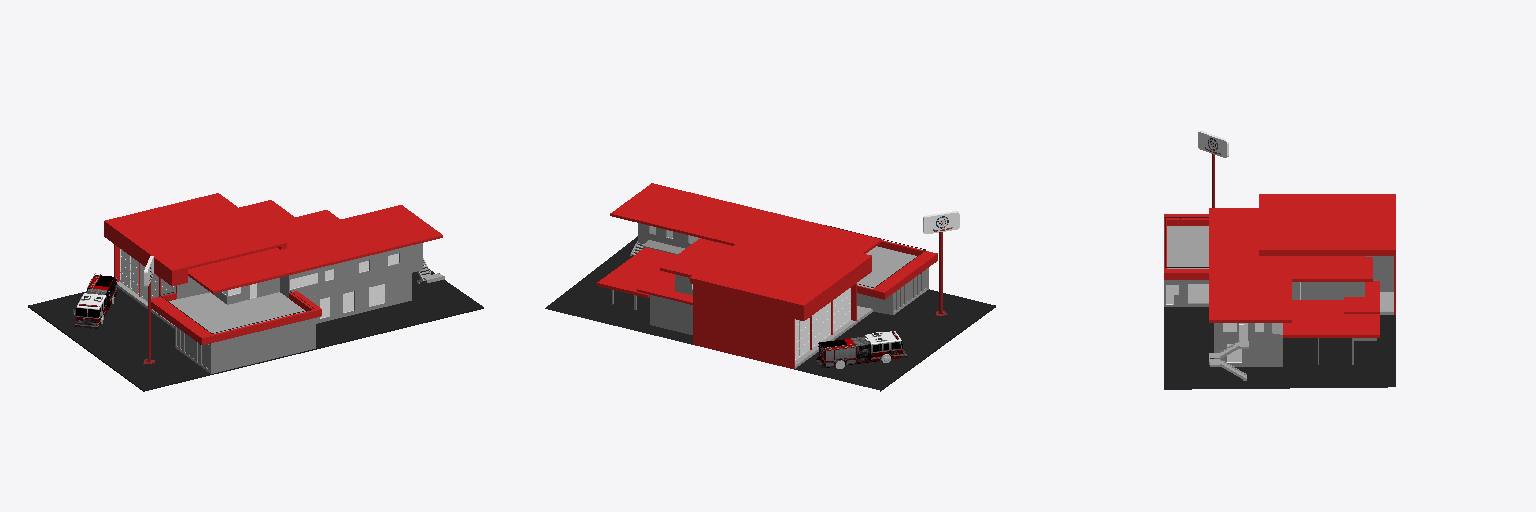
3 renders of one model, left to right at view 1: azimuth 30°, elevation 25°; view 2: azimuth 150°, elevation 25°; view 3: azimuth 270°, elevation 25°, orthographic.
Parts seen in each view (by area): view 1: obj49, obj9, obj10, obj1, obj41, obj11, obj4, obj7, obj4.001, obj27, obj12, obj5 (+2 smaller); view 2: obj49, obj9, obj16, obj10, obj11, obj4.001, obj15, obj1, obj7, obj23, obj12, obj41 (+5 smaller); view 3: obj49, obj9, obj10, obj15, obj11, obj12, obj41, obj1, obj4, obj20, obj7, obj14 (+3 smaller).
Part boxes in pixels (bbox=[...]): obj49: bbox=[28, 265, 483, 391]; obj9: bbox=[188, 205, 442, 293]; obj10: bbox=[120, 194, 280, 268]; obj1: bbox=[175, 273, 411, 373]; obj41: bbox=[169, 292, 305, 333]; obj11: bbox=[104, 193, 286, 286]; obj4: bbox=[213, 243, 422, 300]; obj7: bbox=[151, 291, 321, 344]; obj4.001: bbox=[73, 273, 116, 328]; obj27: bbox=[229, 253, 398, 317]; obj12: bbox=[239, 200, 307, 234]; obj5: bbox=[219, 248, 399, 304]; obj49: bbox=[545, 236, 995, 391]; obj9: bbox=[610, 183, 881, 253]; obj16: bbox=[693, 281, 856, 368]; obj10: bbox=[696, 229, 855, 303]; obj11: bbox=[690, 228, 871, 320]; obj4.001: bbox=[816, 331, 906, 368]; obj15: bbox=[597, 247, 675, 297]; obj1: bbox=[612, 268, 928, 334]; obj7: bbox=[857, 240, 937, 299]; obj23: bbox=[795, 288, 850, 358]; obj12: bbox=[660, 238, 731, 277]; obj41: bbox=[857, 246, 916, 288]; obj49: bbox=[1164, 307, 1395, 389]; obj9: bbox=[1209, 208, 1291, 322]; obj10: bbox=[1259, 202, 1395, 246]; obj15: bbox=[1283, 300, 1379, 337]; obj11: bbox=[1259, 194, 1395, 255]; obj12: bbox=[1292, 256, 1372, 281]; obj41: bbox=[1167, 226, 1208, 268]; obj1: bbox=[1164, 280, 1376, 366]; obj4: bbox=[1214, 282, 1364, 343]; obj20: bbox=[1166, 284, 1393, 361]; obj7: bbox=[1164, 214, 1208, 279]; obj14: bbox=[1344, 281, 1379, 313].
Bounding box in the file's own units: 11.27 × 3.27 × 6.64.
12 materials, 2 textured.